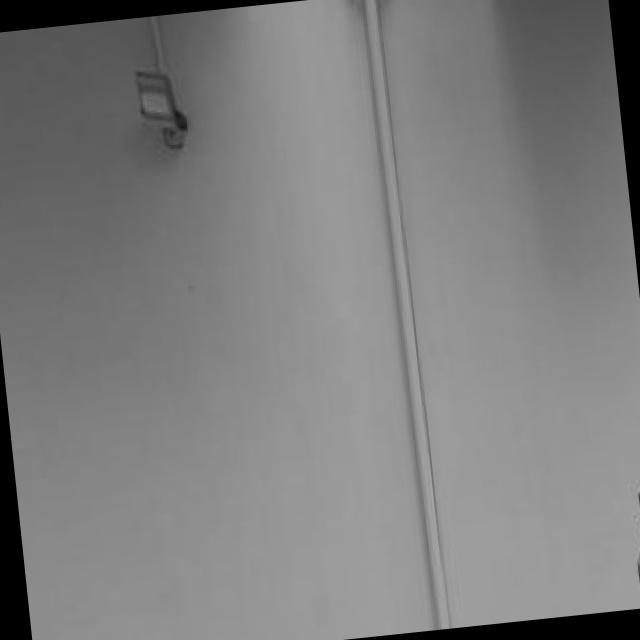Guns: (605, 467, 640, 610)
